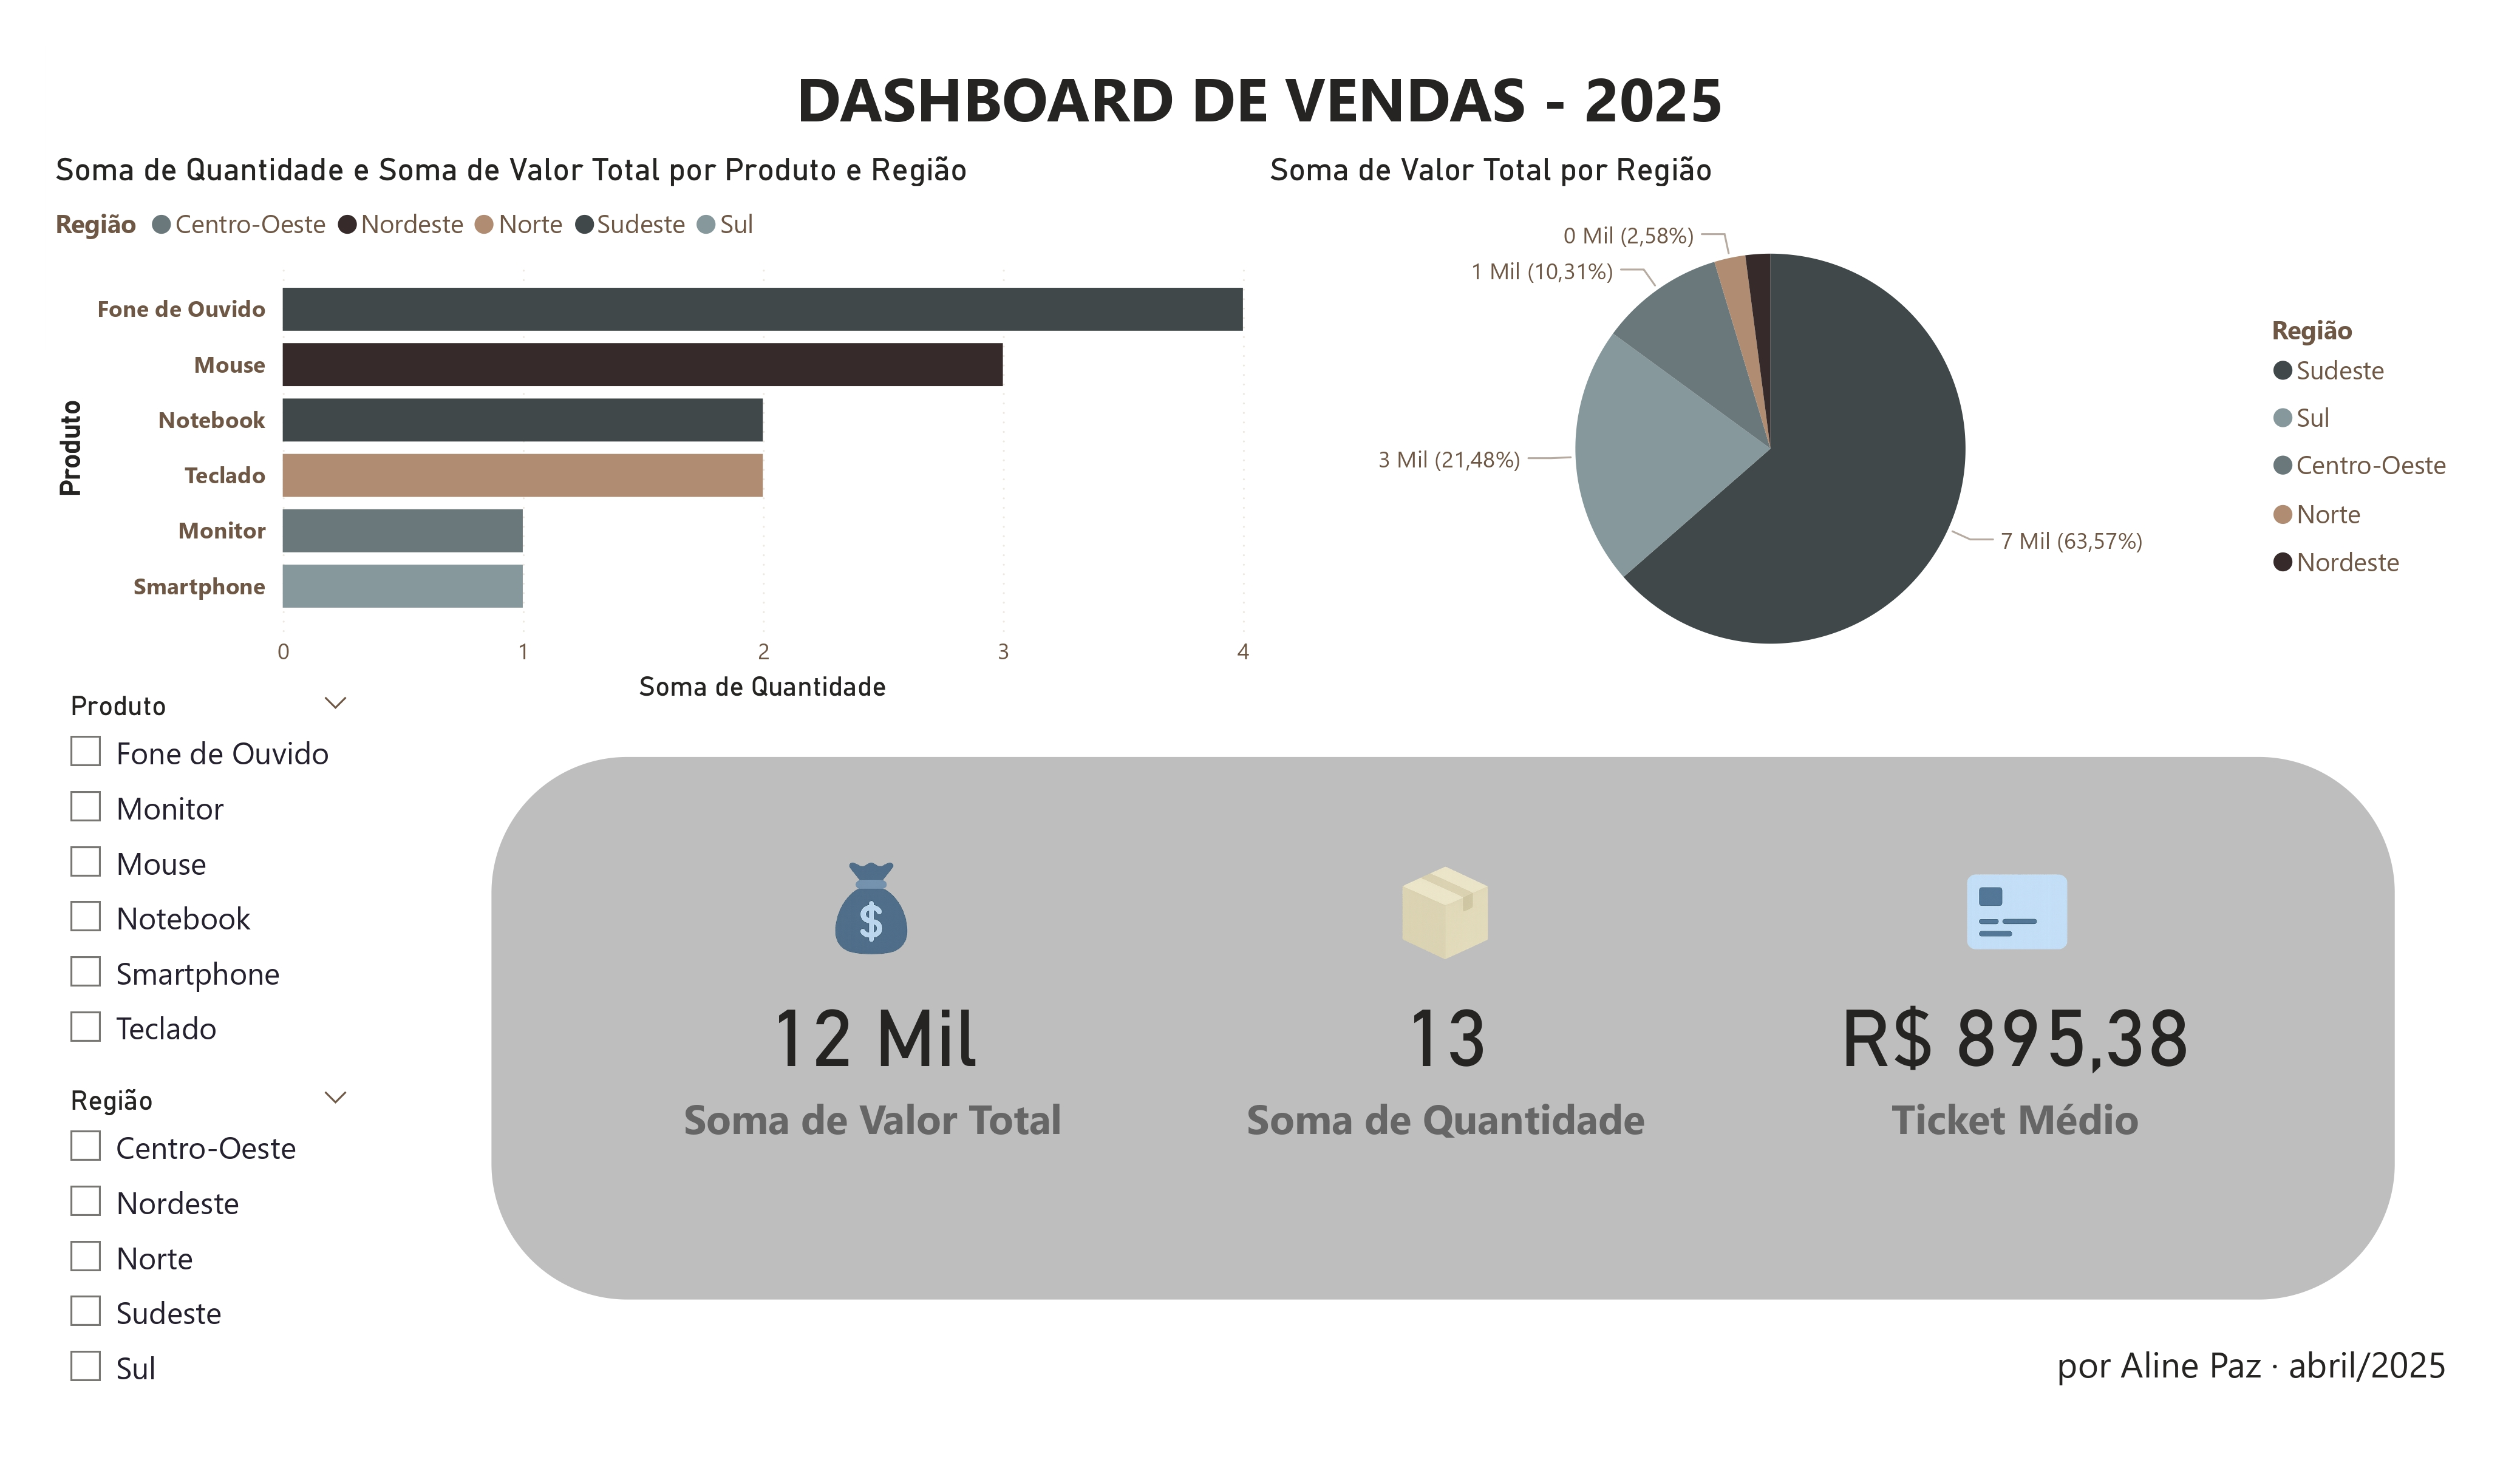

This screenshot's page, from the dashboard's own definition file:
{"tool":"powerbi","page":{"name":"Painel de Vendas","canvas":[1280,720],"ordinal":0},"visuals":[{"type":"shape","box":[235,375,1003.3,286.3],"z":0,"group":"g2"},{"type":"barChart","fields":{"Category":["dados_vendas.Produto"],"Series":["dados_vendas.Região"],"Y":["Sum(dados_vendas.Quantidade)"]},"box":[0,55,640,295.6],"z":1000,"group":"g1"},{"type":"card","fields":{"Values":["Sum(dados_vendas.Valor Total)"]},"box":[285,390.3,302.3,284.7],"z":1000,"group":"g2"},{"type":"pieChart","fields":{"Y":["Sum(dados_vendas.Valor Total)"],"Category":["dados_vendas.Região"]},"box":[640,55,640,295.6],"z":2000,"group":"g1"},{"type":"card","fields":{"Values":["Sum(dados_vendas.Quantidade)"]},"box":[587.7,390.3,300.4,284.7],"z":2000,"group":"g2"},{"type":"slicer","fields":{"Values":["dados_vendas.Região"]},"box":[0,543.3,171.7,176.7],"z":4000},{"type":"group","id":"g1","title":"Grupo 2","box":[0,55,1280,296.7],"z":5000},{"type":"card","title":"Ticket Médio","fields":{"Values":["dados_vendas.Ticket Médio"]},"box":[887.2,390.3,302.3,284.7],"z":6000,"group":"g2"},{"type":"image","box":[399.8,418.9,72.2,74.4],"z":7000,"group":"g2"},{"type":"textbox","box":[0,0,1280,55],"z":8000},{"type":"image","box":[999.5,418.9,77.7,74.4],"z":9000,"group":"g2"},{"type":"image","box":[703.3,418.9,70.3,76.4],"z":10000,"group":"g2"},{"type":"slicer","fields":{"Values":["dados_vendas.Produto"]},"box":[0,335,171.7,208.3],"z":10500},{"type":"group","id":"g2","title":"Grupo 1","box":[235,375,1003.3,300],"z":10501},{"type":"textbox","box":[1055,676.7,225,43.3],"z":10502}]}

Visuals, with their boxes on the page's 1280x720 design canvas (x1, y1, x2, y2). These are canvas units, not pixel positions in the 2520x1457 screenshot, which may show the page scaled, cropped or inside an application window:
shape: (left=235, top=375, right=1238, bottom=661)
barChart - dados_vendas.Produto x dados_vendas.Região: (left=0, top=55, right=640, bottom=351)
card - Sum(dados_vendas.Valor Total): (left=285, top=390, right=587, bottom=675)
pieChart - Sum(dados_vendas.Valor Total) x dados_vendas.Região: (left=640, top=55, right=1280, bottom=351)
card - Sum(dados_vendas.Quantidade): (left=588, top=390, right=888, bottom=675)
slicer - dados_vendas.Região: (left=0, top=543, right=172, bottom=720)
"Grupo 2" group: (left=0, top=55, right=1280, bottom=352)
"Ticket Médio" card: (left=887, top=390, right=1190, bottom=675)
image: (left=400, top=419, right=472, bottom=493)
textbox: (left=0, top=0, right=1280, bottom=55)
image: (left=1000, top=419, right=1077, bottom=493)
image: (left=703, top=419, right=774, bottom=495)
slicer - dados_vendas.Produto: (left=0, top=335, right=172, bottom=543)
"Grupo 1" group: (left=235, top=375, right=1238, bottom=675)
textbox: (left=1055, top=677, right=1280, bottom=720)
